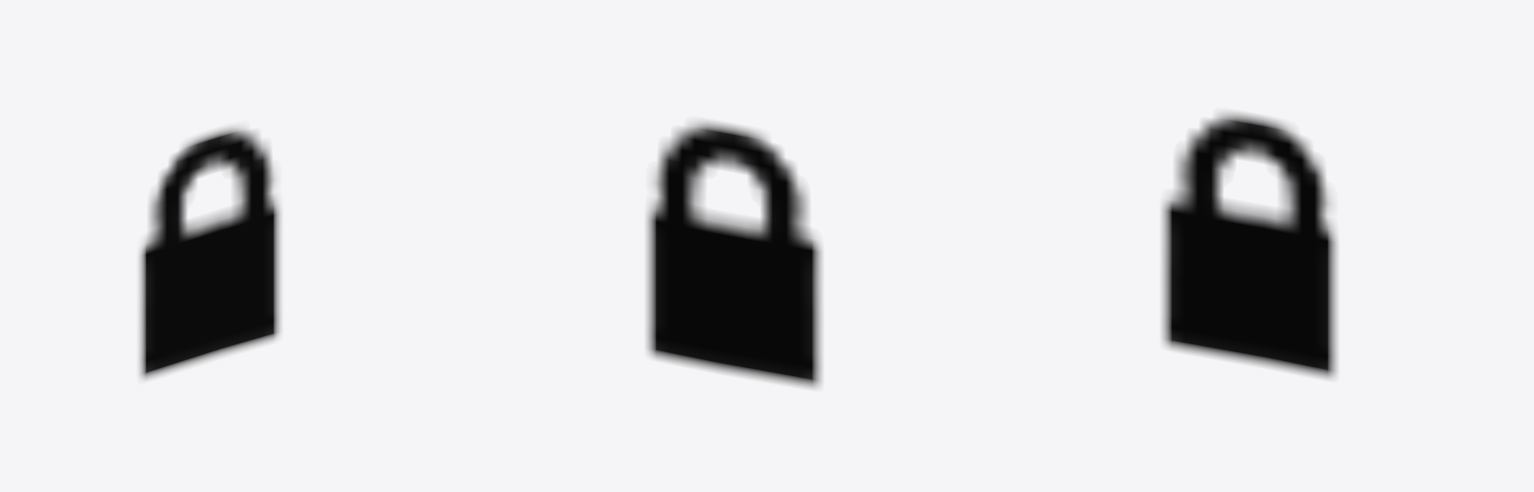
File: track2_lock.glb
The picture shows the model from 3 angles, left to right: view 1: azimuth 30°, elevation 25°; view 2: azimuth 150°, elevation 25°; view 3: azimuth 330°, elevation 25°; orthographic projection. The views are drawn at different scales.
Parts seen in each view (by area): view 1: menu_2_tr2_lock; view 2: menu_2_tr2_lock; view 3: menu_2_tr2_lock.
Boxes of the visible parts, x1,y1,x2,y2 form: menu_2_tr2_lock: (138, 125, 282, 381); menu_2_tr2_lock: (646, 120, 822, 389); menu_2_tr2_lock: (1161, 111, 1337, 379).
Bounding box in the file's own units: 0.7071 × 0.509 × 0.0696.
Materials: 1 (1 with a texture image).
